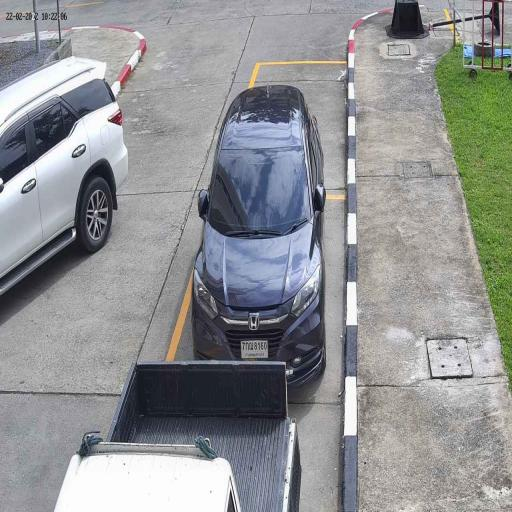car: (190, 81, 328, 385), (53, 359, 303, 512), (0, 56, 129, 298)
